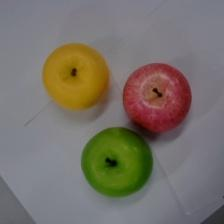green: (81, 127, 153, 197)
red: (123, 62, 192, 133)
yellow: (43, 44, 109, 110)
